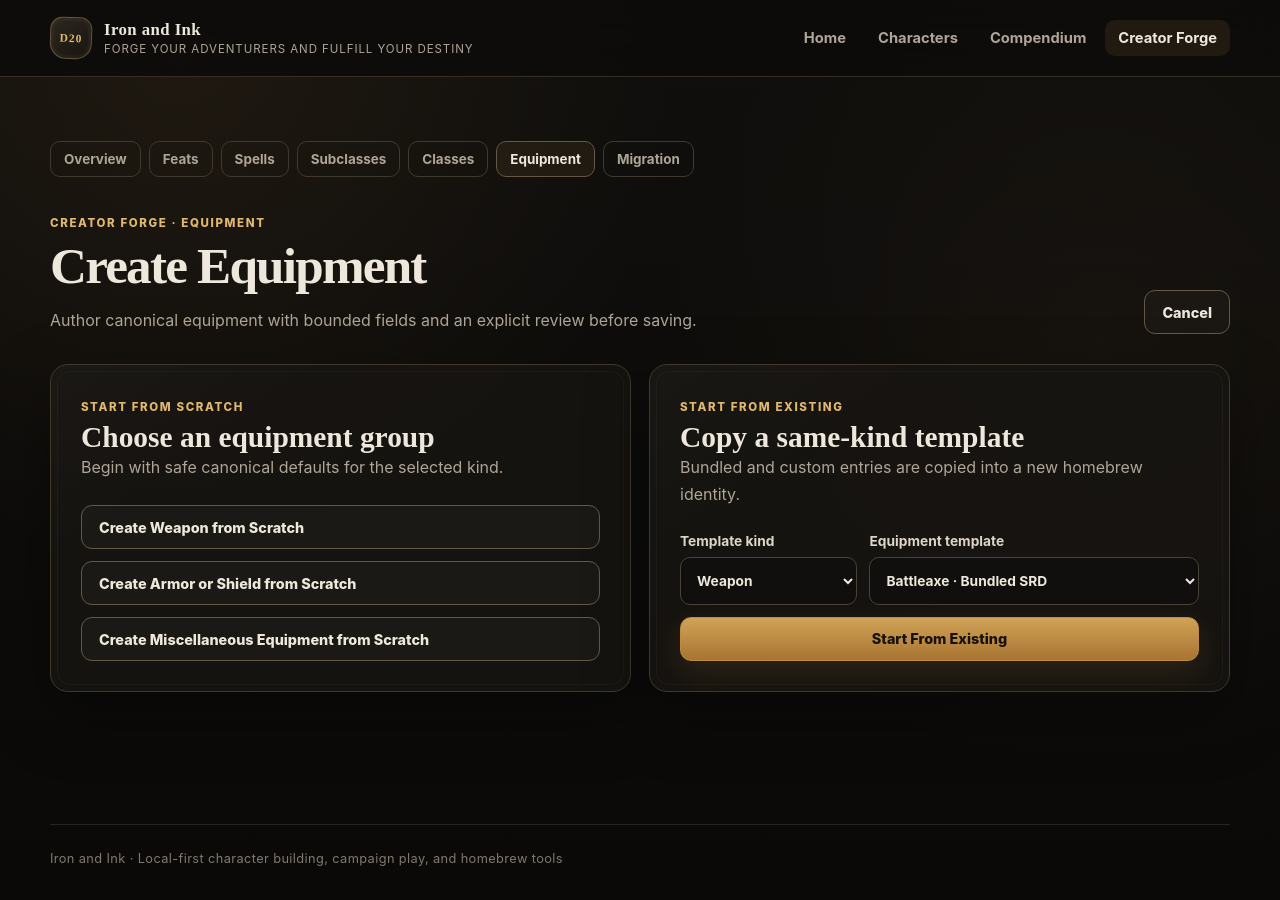
it: Equipment Forge editor › includes the numeric Dexterity cap in capped armor review text
The width and height of the screenshot is (1280, 900).
Click the button "Create Armor or Shield from Scratch" at [340, 584], box left=81, top=562, right=600, bottom=606
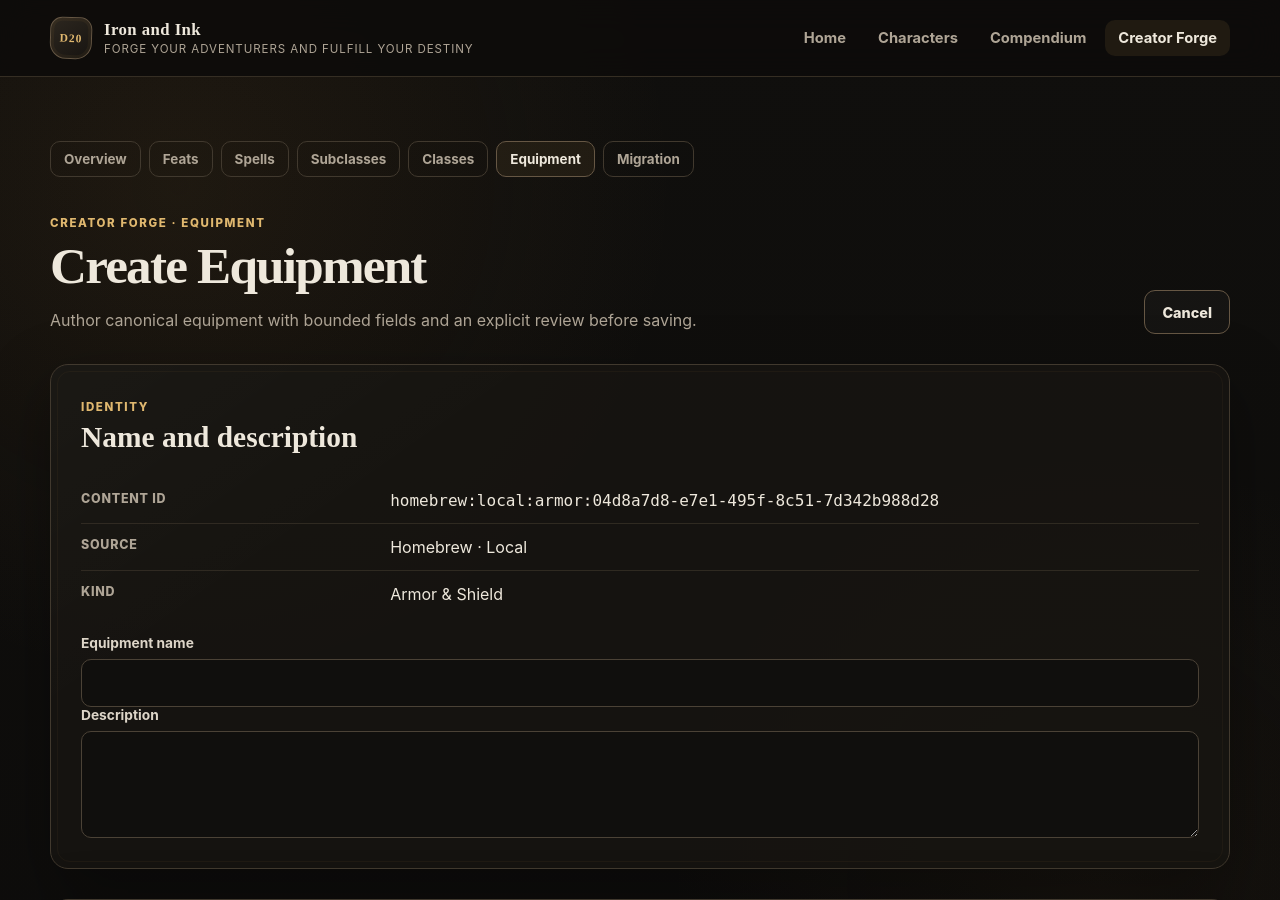
Type "Capped Review Mail" into the field labelled "Equipment name" at [640, 683], box left=81, top=659, right=1199, bottom=707
(page scrolled)
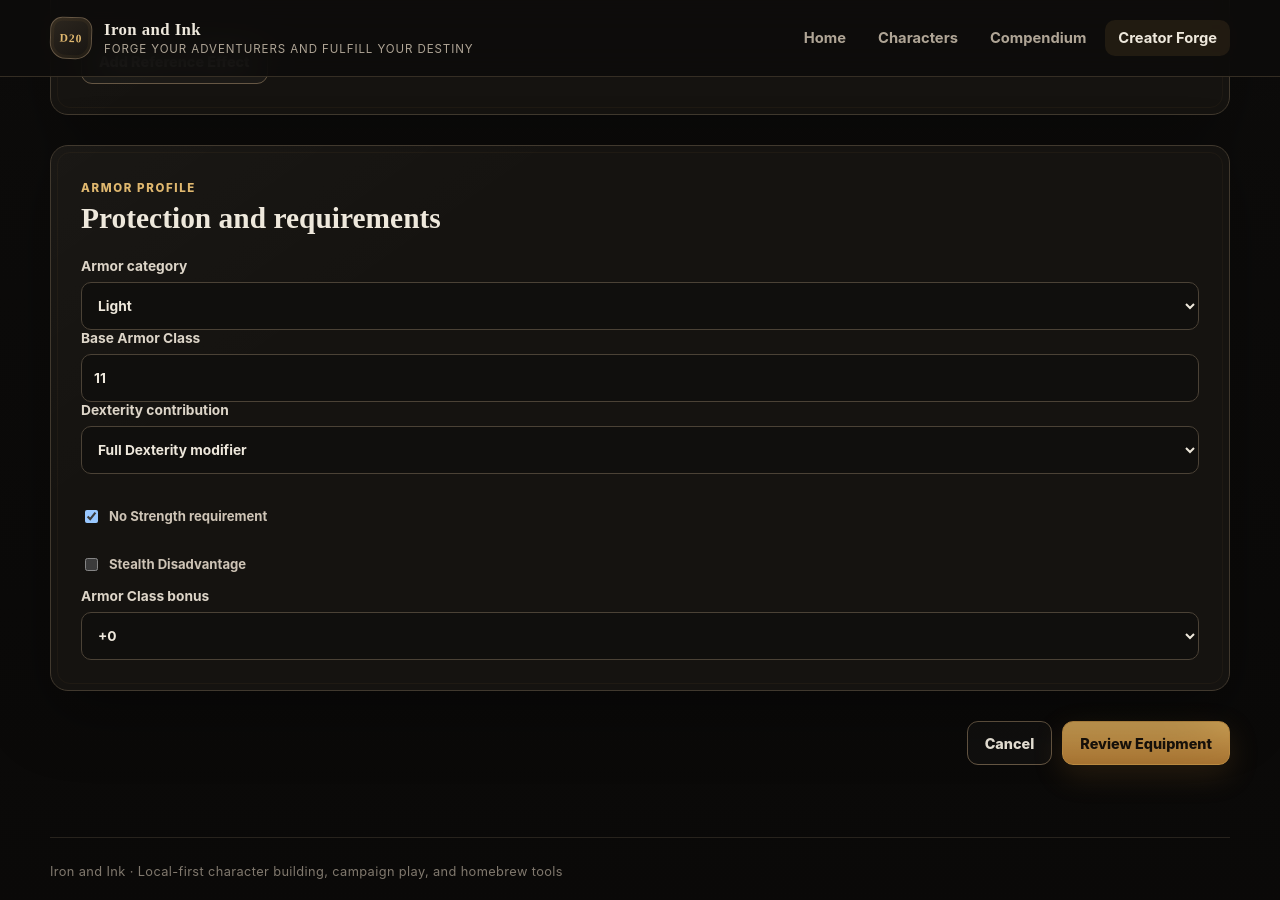
Select "Capped Dexterity modifier" in the dropdown labelled "Dexterity contribution" at [640, 450], box left=81, top=426, right=1199, bottom=474
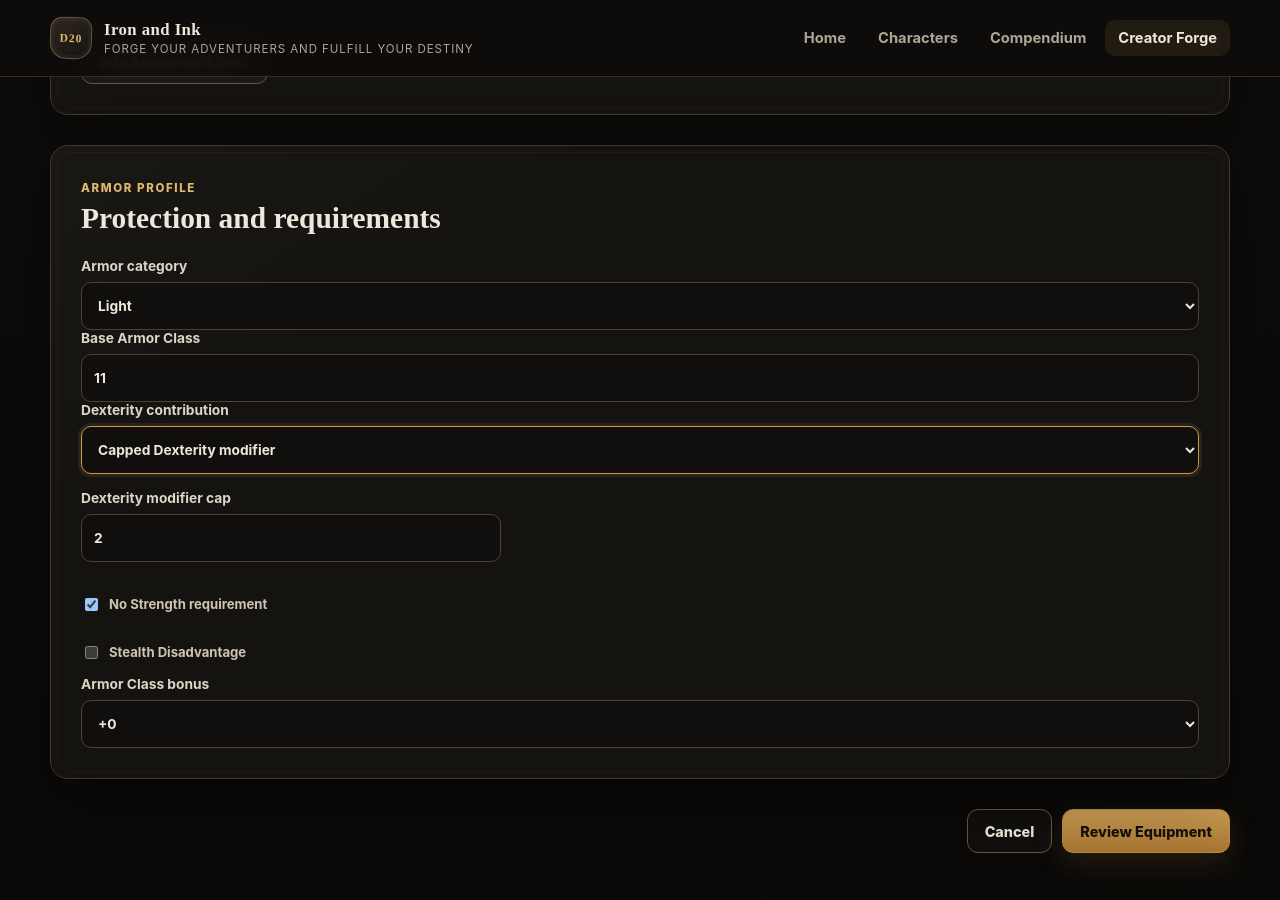
Replace the text in the number field labelled "Dexterity modifier cap" with "3" at [291, 538], box left=81, top=514, right=501, bottom=562
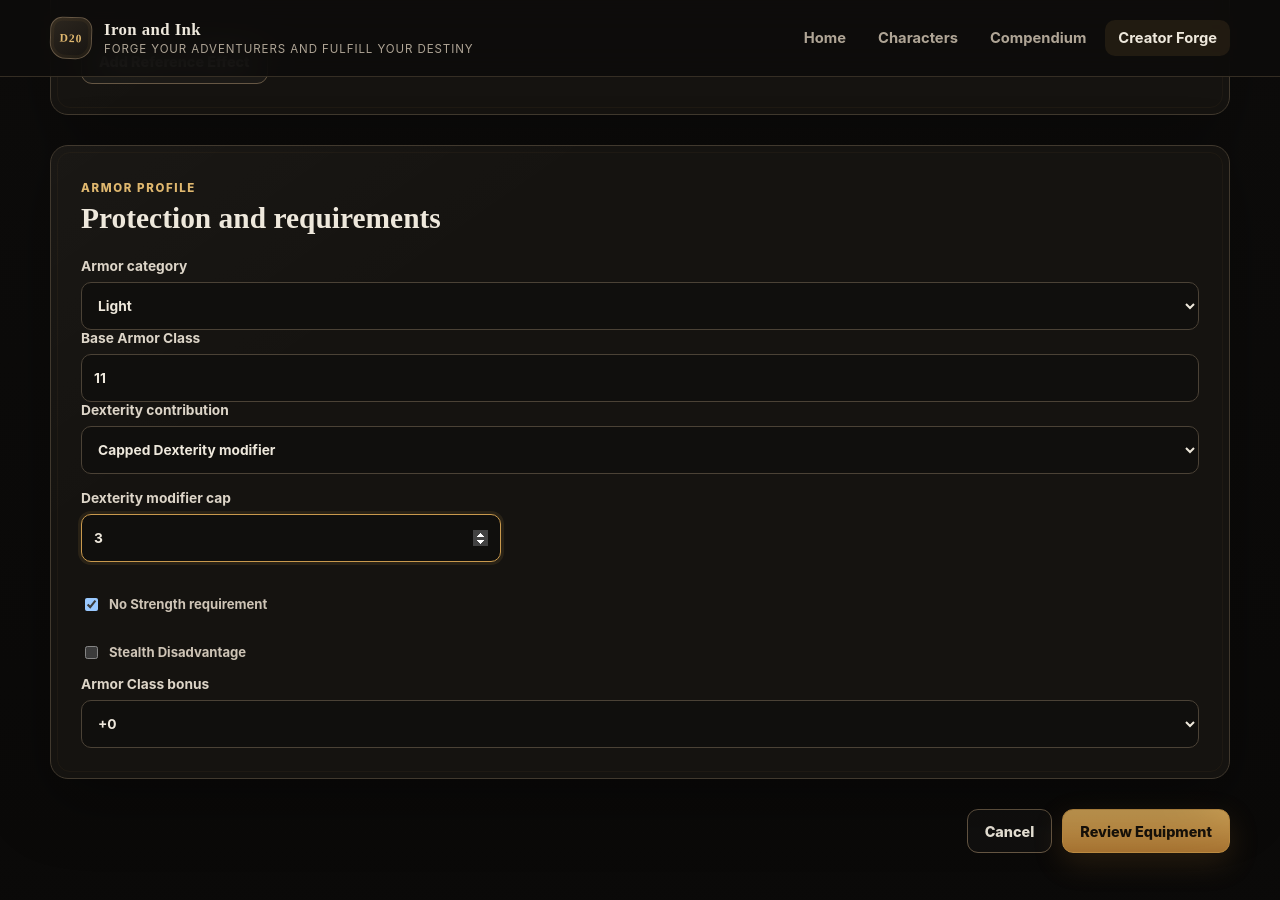
Click the button "Review Equipment" at [1146, 831], box left=1062, top=809, right=1230, bottom=853
(page scrolled)
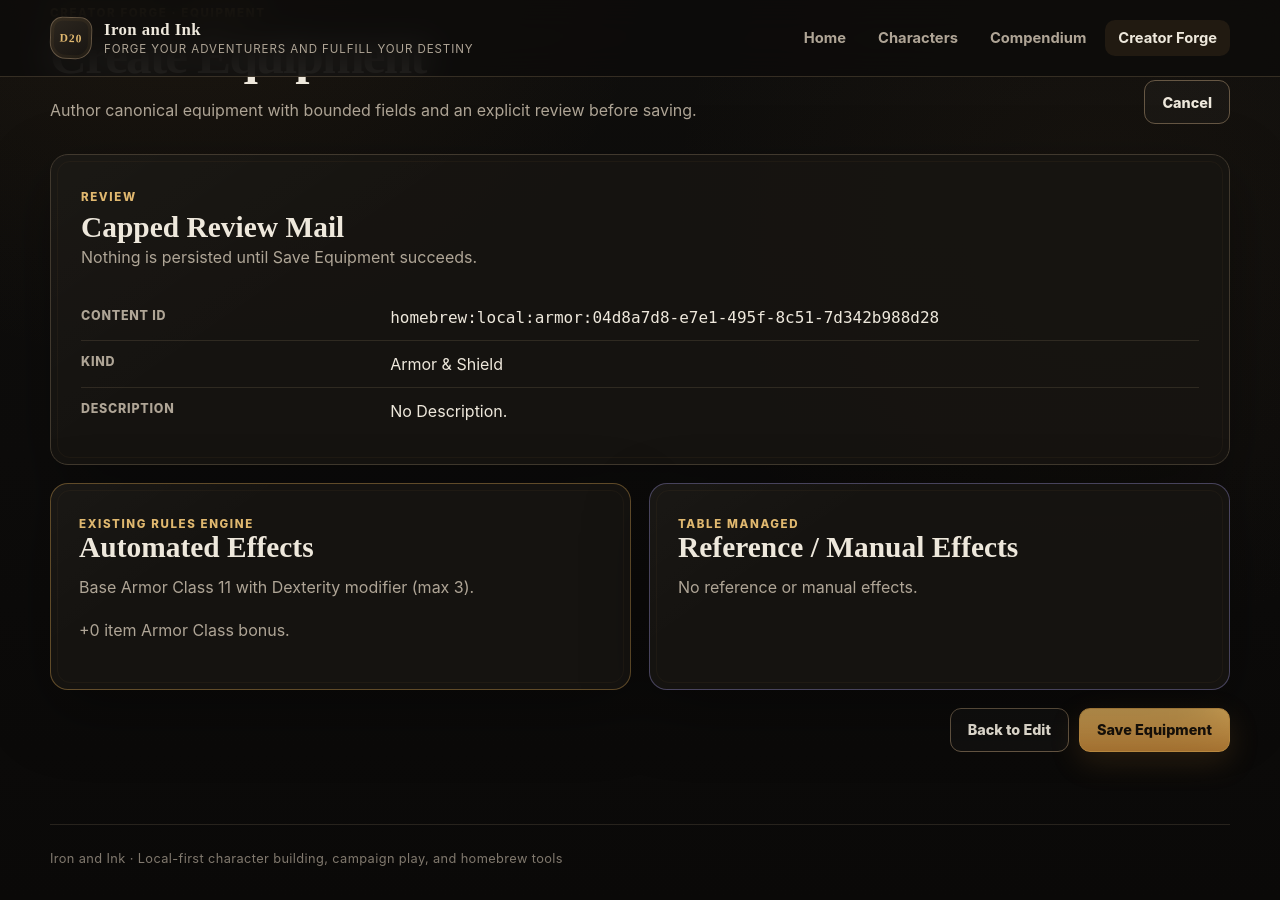
Result: the text "Base Armor Class 11 with Dexterity modifier (max 3)." is shown at left=79, top=577, right=474, bottom=597
